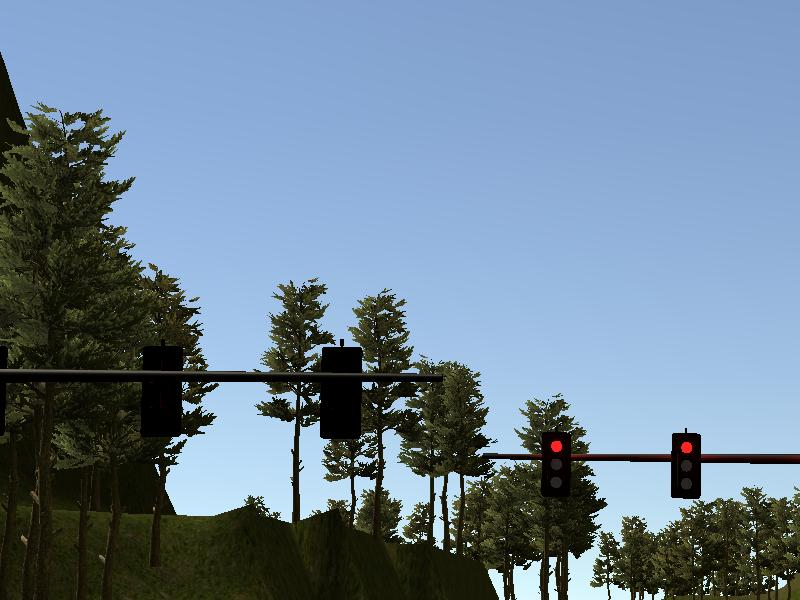Red: (540, 433, 570, 499), (672, 433, 700, 498)
